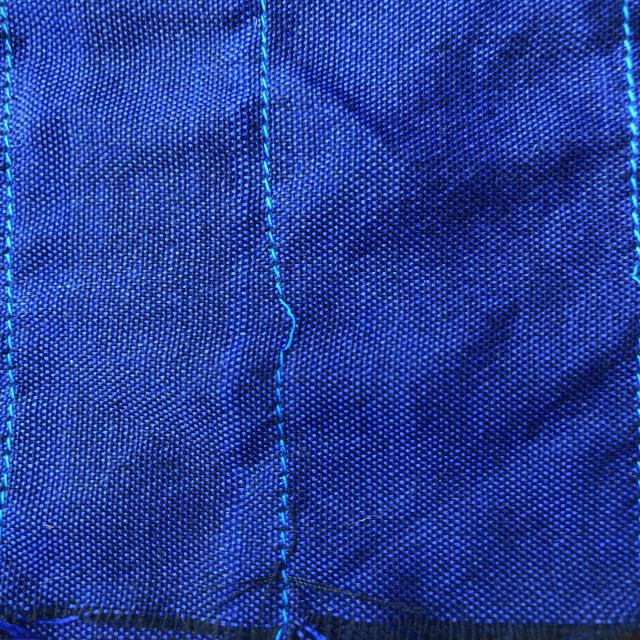good: (236, 117, 307, 237)
skip: (255, 284, 332, 373)
